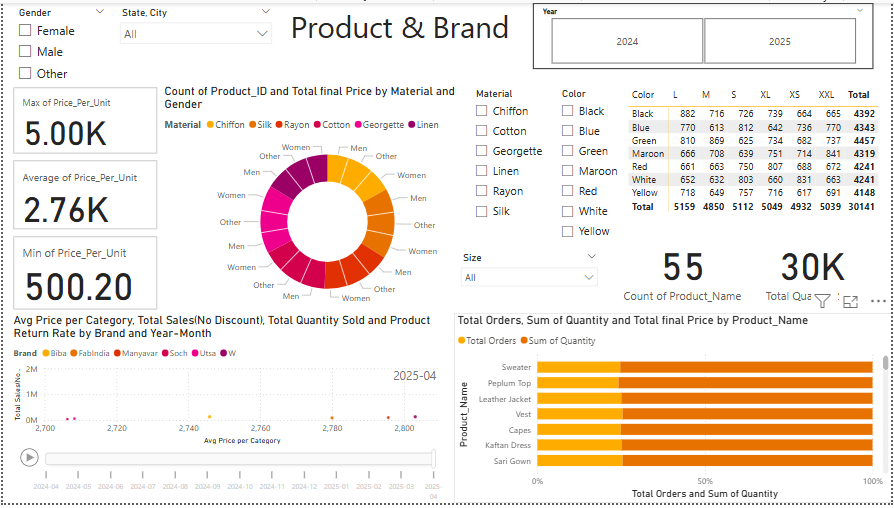

The dashboard page shown, as its layout file describes it:
{"tool":"powerbi","page":{"name":"Product and brand insights","canvas":[1280,720],"ordinal":3},"visuals":[{"type":"slicer","fields":{"Values":["Customers.Gender"]},"box":[10.1,0,148.3,128.2],"z":0},{"type":"slicer","fields":{"Values":["Customers.State Hierarchy.State","Customers.State Hierarchy.City"]},"box":[158.4,0,239,103.7],"z":1000},{"type":"textbox","box":[409,0,339.8,95],"z":2000},{"type":"slicer","fields":{"Values":["DateTable.Year Hierarchy.Year","DateTable.Year Hierarchy.Year-Month"]},"box":[763.2,0,489.6,95],"z":3000},{"type":"cardVisual","fields":{"Data":["Max(Products.Price_Per_Unit)"]},"box":[10.1,116.6,217.4,105.1],"z":4000},{"type":"cardVisual","fields":{"Data":["Avg(Products.Price_Per_Unit)"]},"box":[10.1,221.8,217.4,109.4],"z":5000},{"type":"cardVisual","fields":{"Data":["Min(Products.Price_Per_Unit)"]},"box":[10.1,331.2,217.4,115.2],"z":6000},{"type":"donutChart","fields":{"Category":["Products.Material"],"Y":["CountNonNull(Orders.Product_ID)"],"Series":["Products.Gender"]},"box":[227.5,116.6,479.5,329.8],"z":7000},{"type":"slicer","fields":{"Values":["Products.Material"]},"box":[668.2,116.6,158.4,203],"z":8000},{"type":"slicer","fields":{"Values":["Products.Color"]},"box":[792,116.6,148.3,233.3],"z":9000},{"type":"pivotTable","fields":{"Rows":["Products.Color"],"Columns":["Products.Size"],"Values":["Orders.Total Quantity Sold"]},"box":[895.7,116.6,374.4,190.1],"z":10000},{"type":"card","fields":{"Values":["Count(Products.Product_Name)"]},"box":[884.2,331.2,188.6,105.1],"z":11000},{"type":"card","fields":{"Values":["Orders.Total Quantity Sold"]},"box":[1072.8,331.2,185.8,105.1],"z":12000},{"type":"slicer","fields":{"Values":["Products.Size"]},"box":[649.4,352.8,217.4,83.5],"z":13000},{"type":"scatterChart","fields":{"X":["Orders.Avg Price per Category"],"Y":["Orders.Total Sales(No Discount)"],"Series":["Products.Brand"],"Size":["Orders.Total Quantity Sold"],"Play":["DateTable.Year-Month"]},"box":[10.1,446.4,639.4,273.6],"z":14000},{"type":"hundredPercentStackedBarChart","fields":{"Category":["Products.Product_Name"],"Y":["Orders.Total Orders","Sum(Orders.Quantity)"]},"box":[649.4,446.4,630.7,273.6],"z":15000}]}

Visuals, with their boxes in screenshot pixels (x1, y1, x2, y2), scaled from the page's 1280x720 canvas onto the 894x508 screenshot:
slicer - Customers.Gender: (left=7, top=0, right=111, bottom=90)
slicer - Customers.State Hierarchy.State x Customers.State Hierarchy.City: (left=111, top=0, right=278, bottom=73)
textbox: (left=286, top=0, right=523, bottom=67)
slicer - DateTable.Year Hierarchy.Year x DateTable.Year Hierarchy.Year-Month: (left=533, top=0, right=875, bottom=67)
cardVisual - Max(Products.Price_Per_Unit): (left=7, top=82, right=159, bottom=156)
cardVisual - Avg(Products.Price_Per_Unit): (left=7, top=156, right=159, bottom=234)
cardVisual - Min(Products.Price_Per_Unit): (left=7, top=234, right=159, bottom=315)
donutChart - Products.Material x CountNonNull(Orders.Product_ID): (left=159, top=82, right=494, bottom=315)
slicer - Products.Material: (left=467, top=82, right=577, bottom=225)
slicer - Products.Color: (left=553, top=82, right=657, bottom=247)
pivotTable - Products.Color x Products.Size: (left=626, top=82, right=887, bottom=216)
card - Count(Products.Product_Name): (left=618, top=234, right=749, bottom=308)
card - Orders.Total Quantity Sold: (left=749, top=234, right=879, bottom=308)
slicer - Products.Size: (left=454, top=249, right=605, bottom=308)
scatterChart - Orders.Avg Price per Category x Orders.Total Sales(No Discount): (left=7, top=315, right=454, bottom=507)
hundredPercentStackedBarChart - Products.Product_Name x Orders.Total Orders: (left=454, top=315, right=893, bottom=507)
